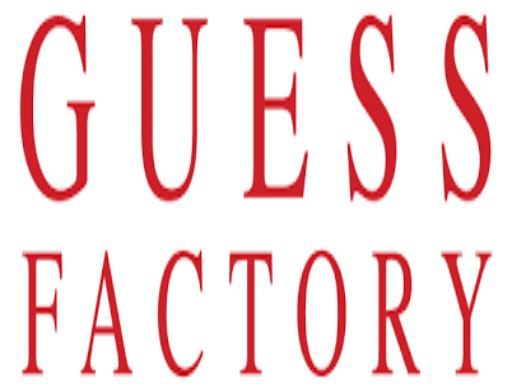GUESS: (15, 12, 495, 210)
